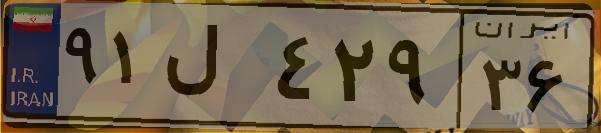1: (110, 28, 158, 98)
2: (330, 28, 385, 110)
3: (475, 38, 525, 113)
4: (270, 28, 330, 110)
6: (525, 38, 570, 115)
9: (385, 28, 445, 110), (57, 26, 110, 100)
ل: (158, 20, 270, 120)
